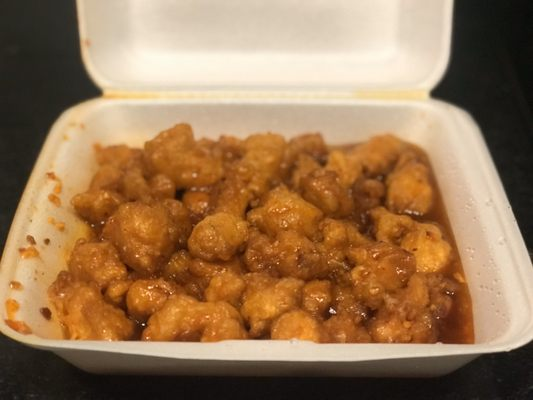sushi: (0, 0, 527, 397)
